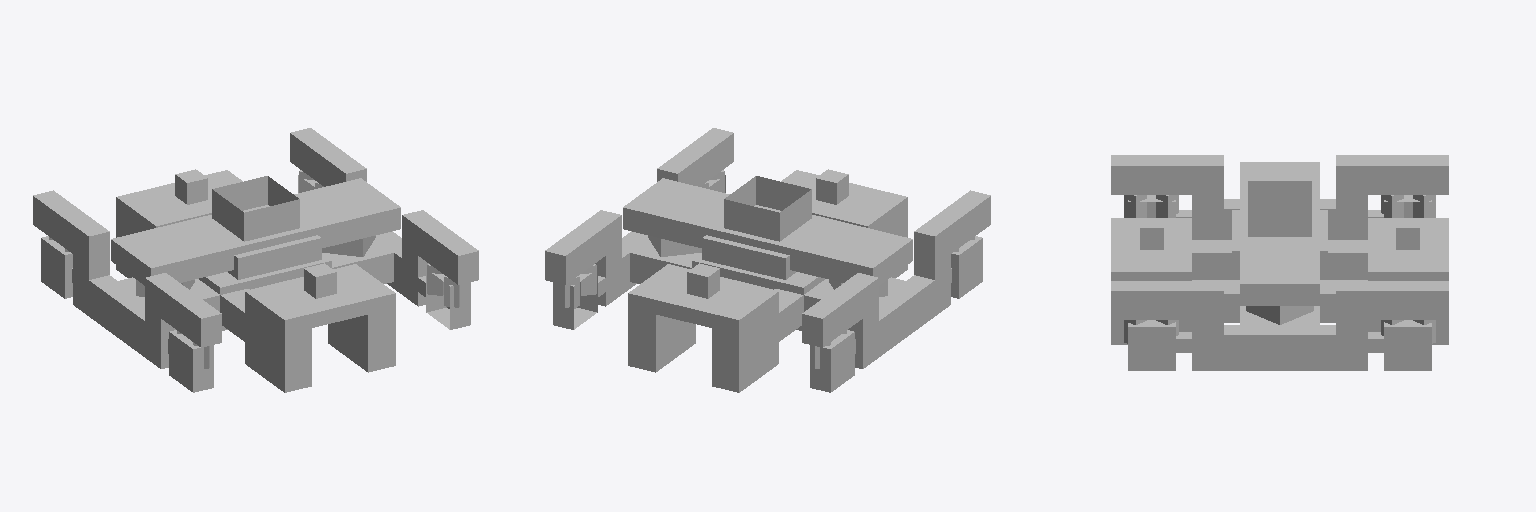
File: frame.obj
3 views of the same model, side by side, from view 1: azimuth 30°, elevation 25°; view 2: azimuth 150°, elevation 25°; view 3: azimuth 270°, elevation 25° (orthographic).
Visible parts, largest first — view 1: cube_2, cube_21, cube_18, cube_27, cube_0, cube_30, cube_36, cube_5, cube_19, cube_15, cube_9, cube_45 (+16 smaller); view 2: cube_2, cube_15, cube_17, cube_27, cube_0, cube_9, cube_42, cube_5, cube_16, cube_21, cube_30, cube_8 (+16 smaller); view 3: cube_2, cube_34, cube_0, cube_9, cube_30, cube_36, cube_42, cube_27, cube_32, cube_39, cube_17, cube_18 (+17 smaller).
Boxes of the visible parts, x1,y1,x2,y2 form: cube_2: [111, 178, 400, 285]; cube_21: [245, 284, 311, 392]; cube_18: [328, 264, 395, 372]; cube_27: [73, 269, 173, 368]; cube_0: [212, 176, 299, 241]; cube_30: [161, 285, 221, 347]; cube_36: [418, 222, 478, 284]; cube_5: [228, 235, 321, 279]; cube_19: [273, 277, 367, 327]; cube_15: [116, 190, 183, 277]; cube_9: [33, 190, 92, 253]; cube_45: [169, 330, 213, 392]; cube_2: [623, 178, 912, 285]; cube_15: [712, 284, 778, 392]; cube_17: [628, 264, 695, 372]; cube_27: [850, 269, 950, 368]; cube_0: [724, 176, 811, 241]; cube_9: [802, 285, 862, 347]; cube_42: [545, 222, 605, 284]; cube_5: [702, 235, 795, 279]; cube_16: [656, 277, 750, 327]; cube_21: [840, 190, 907, 277]; cube_30: [931, 190, 990, 253]; cube_8: [810, 330, 854, 392]; cube_2: [1240, 162, 1319, 305]; cube_34: [1192, 325, 1367, 370]; cube_0: [1248, 181, 1311, 236]; cube_9: [1368, 155, 1448, 194]; cube_30: [1111, 155, 1191, 194]; cube_36: [1111, 281, 1191, 319]; cube_42: [1368, 281, 1448, 319]; cube_27: [1192, 199, 1367, 239]; cube_32: [1128, 320, 1175, 370]; cube_39: [1384, 320, 1431, 370]; cube_17: [1368, 259, 1448, 344]; cube_18: [1111, 259, 1191, 344].
Bounding box in the file's own units: 2.5 × 1.06 × 2.62.